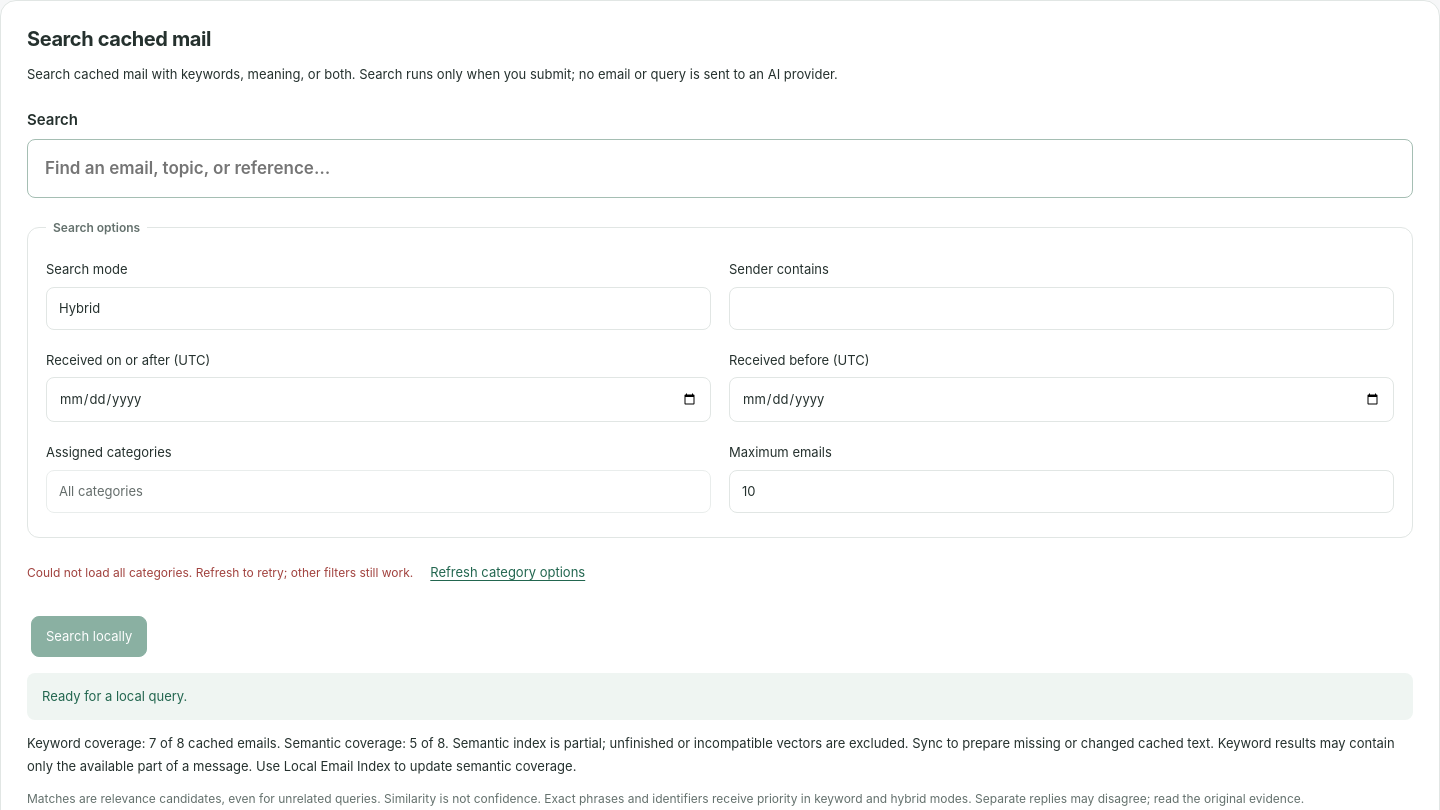
discards partial category menus on a later-page error and lets the user retry
The width and height of the screenshot is (1440, 810).
Check: the message "Could not load all categories. Refresh to retry; other filters still work." is shown, box [27,562,413,583]
Check: the dropdown labelled "Assigned categories" is disabled, box [46,470,711,513]
Click the button "Refresh category options" at x=508, y=573, box [429,554,586,592]
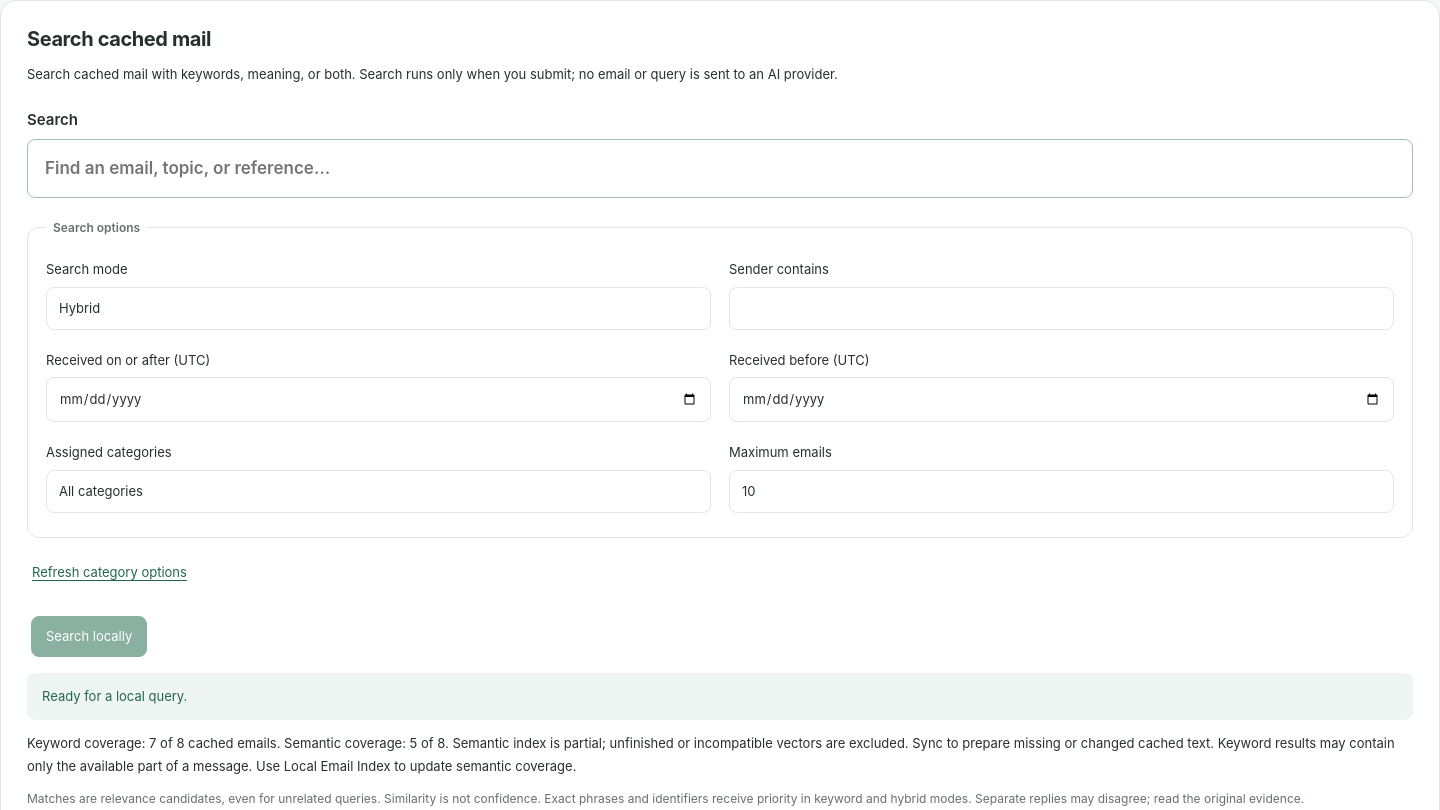
Check: the dropdown labelled "Assigned categories" is enabled, box [46,470,711,513]
